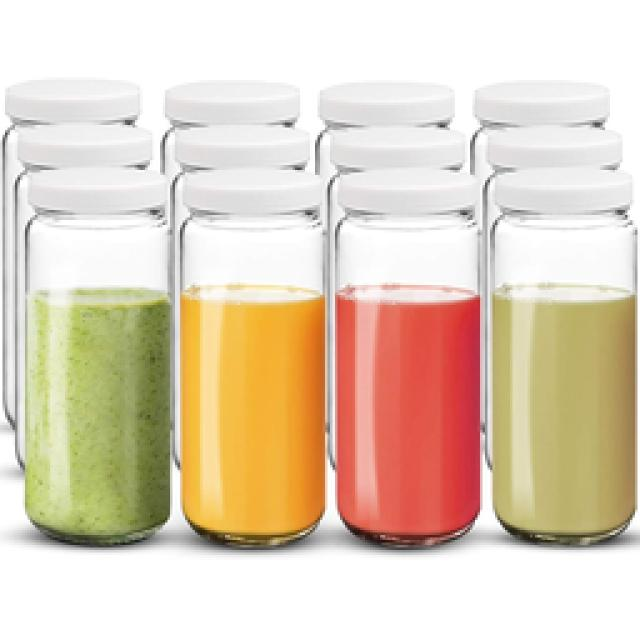glass_beverage_bottles: (183, 165, 327, 543), (490, 173, 640, 535), (30, 172, 168, 543), (335, 180, 473, 533)
